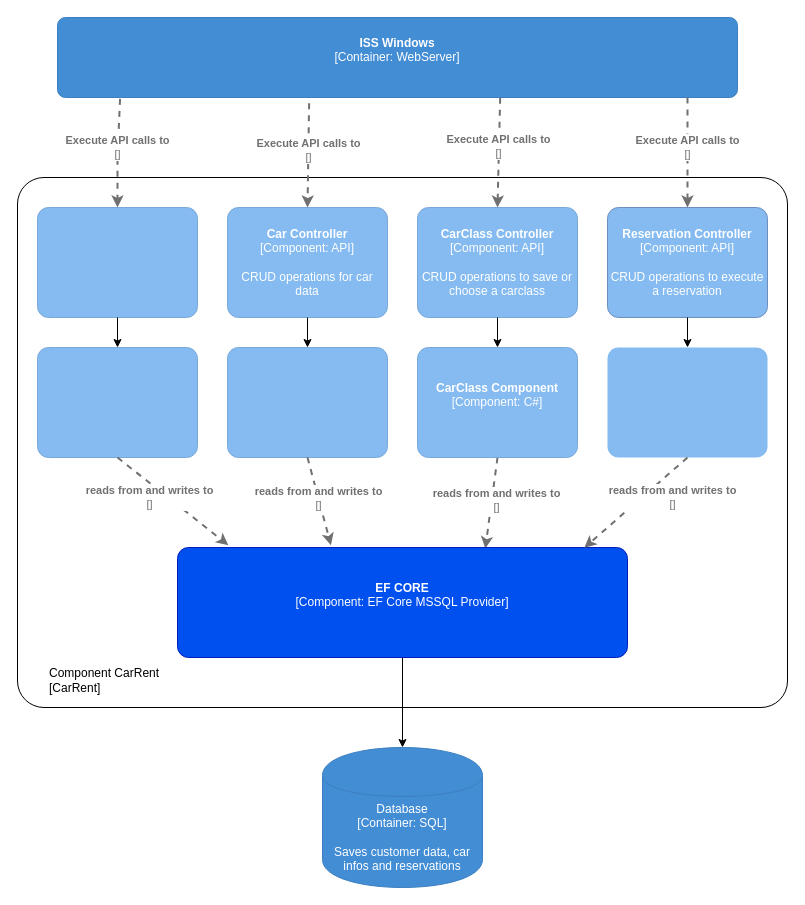
This 805x905 diagram has some shape labels left out. The centre of each missing label's shape, as x and y in pixels:
Car Component [Component: C#]: point 307,402
Customer Component [Component: C#]: point 117,402
Customer Controller [Component: API] CRUD operations for customer data: point 117,262
Reservation Component [Component: C#]: point 687,402
